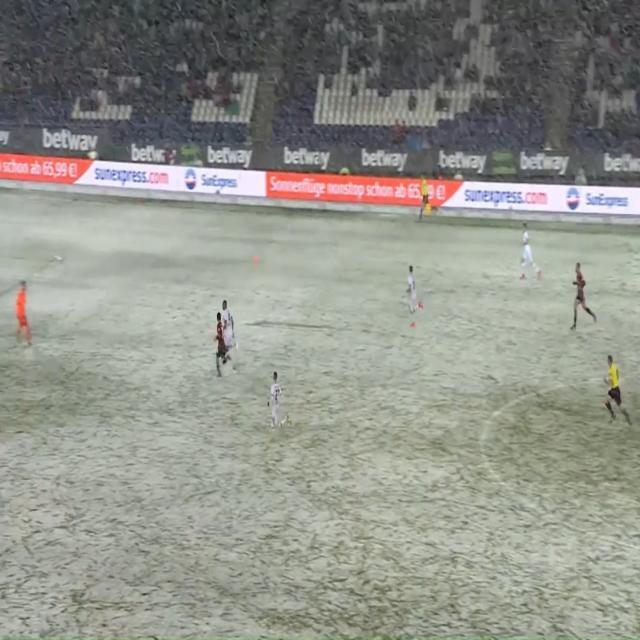ball: (249, 251, 262, 272)
goalkeeper: (7, 257, 40, 368)
player: (601, 347, 635, 431), (570, 254, 600, 336), (516, 217, 546, 288), (267, 361, 294, 436), (400, 257, 425, 331), (213, 310, 235, 383), (220, 296, 238, 357)
referee: (417, 167, 440, 226)
